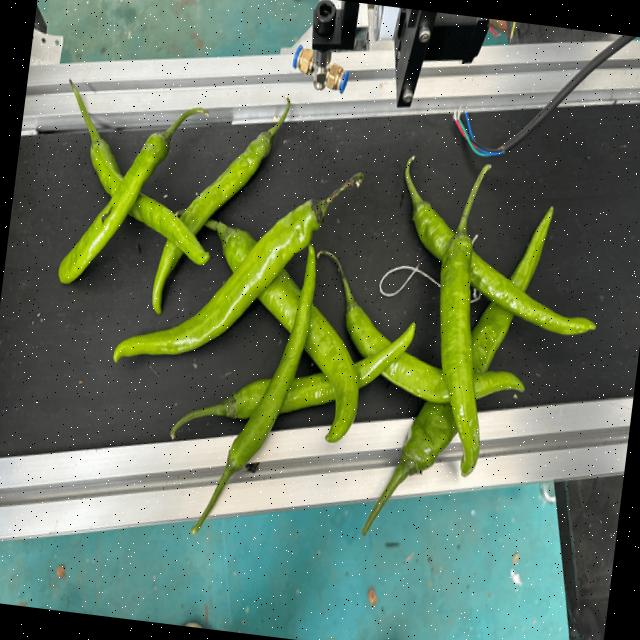chili: (398, 199, 555, 475), (111, 197, 330, 365), (220, 226, 360, 444), (412, 200, 600, 335), (151, 128, 274, 318), (224, 240, 317, 473), (222, 318, 418, 419), (344, 300, 525, 403), (58, 129, 172, 286), (89, 135, 210, 265), (437, 232, 481, 477)
